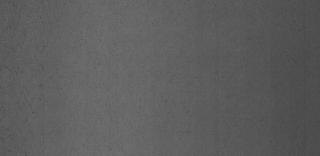silk spot: (5, 20, 52, 110)
